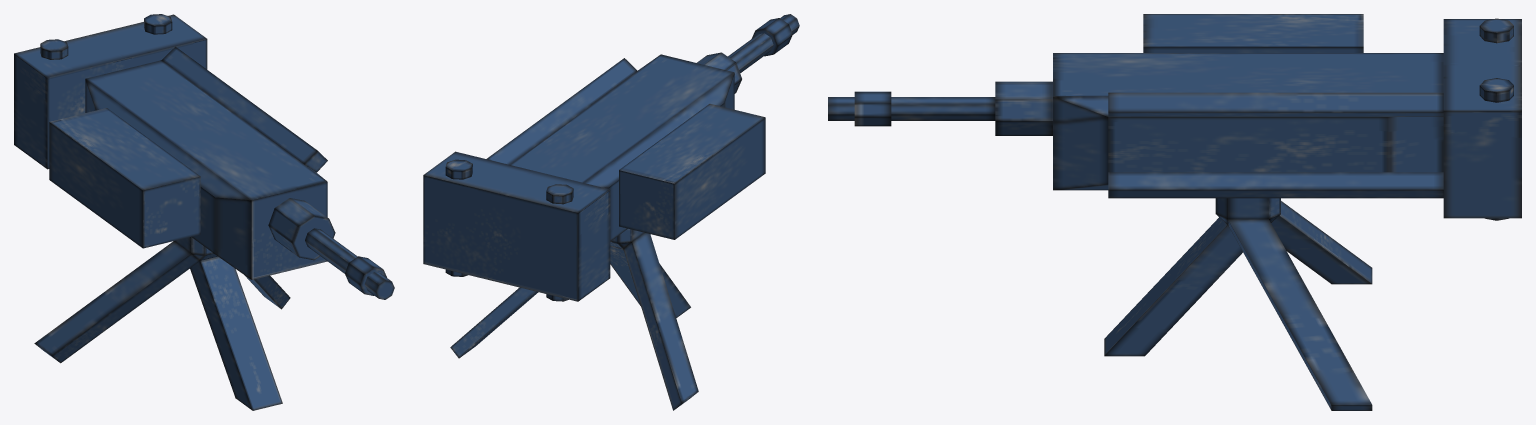
The model's file is turret.glb.
3 renders of one model, left to right at view 1: azimuth 30°, elevation 25°; view 2: azimuth 150°, elevation 25°; view 3: azimuth 270°, elevation 25°, orthographic. The views are drawn at different scales.
Visible parts, largest first — view 1: gun, base; view 2: gun, base; view 3: gun, base.
Part boxes in pixels (x1,y1,x2,y2): gun: (14,14,394,299); base: (34,237,290,410); gun: (423,14,799,301); base: (450,228,698,410); gun: (828,14,1521,220); base: (1104,198,1372,410).
Bounding box in the file's own units: 29.47 × 29.58 × 63.03.
Materials: 1 (1 with a texture image).
